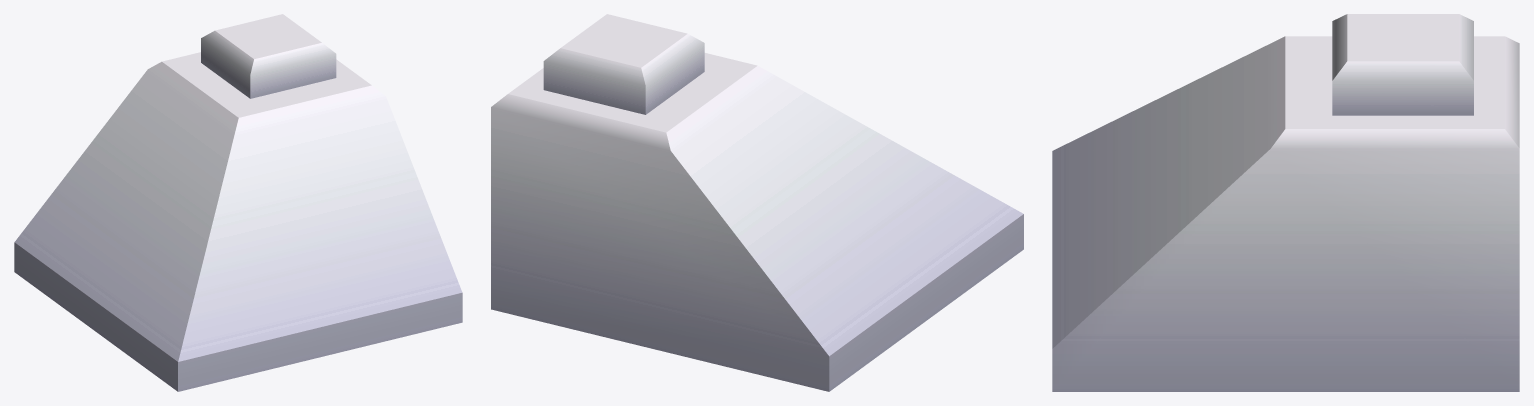
Rendered from square-hq-brick-slope-corner-outside-2x2.glb.
3 renders of one model, left to right at view 1: azimuth 30°, elevation 25°; view 2: azimuth 150°, elevation 25°; view 3: azimuth 270°, elevation 25°, orthographic. The views are drawn at different scales.
Visible parts, largest first — view 1: square-hq-brick-slope-corner-outside-2x2; view 2: square-hq-brick-slope-corner-outside-2x2; view 3: square-hq-brick-slope-corner-outside-2x2.
Part boxes in pixels (<box>): square-hq-brick-slope-corner-outside-2x2: <box>14,14,462,391</box>; square-hq-brick-slope-corner-outside-2x2: <box>491,14,1023,391</box>; square-hq-brick-slope-corner-outside-2x2: <box>1052,14,1519,391</box>.
Bounding box in the file's own units: 0.159 × 0.114 × 0.1585.
Materials: 1 (1 with a texture image).
